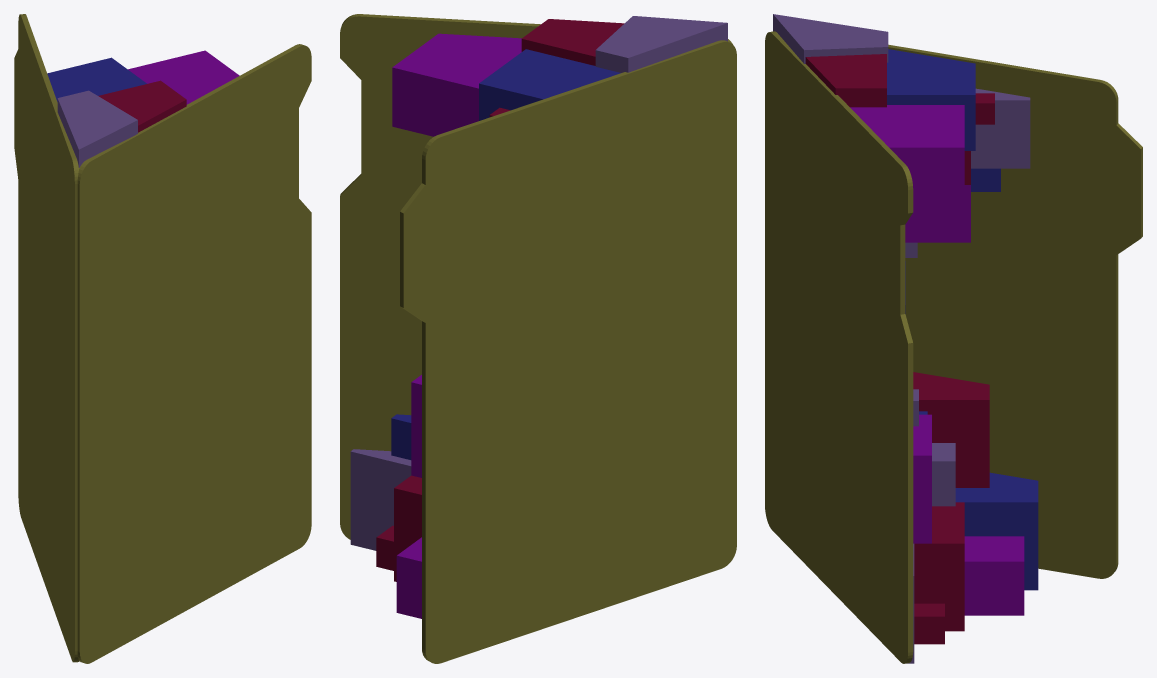
Rendered from Single_Tower 1.fbx.
3 renders of one model, left to right at view 1: azimuth 30°, elevation 25°; view 2: azimuth 150°, elevation 25°; view 3: azimuth 270°, elevation 25°, orthographic. The views are drawn at different scales.
Visible parts, largest first — view 1: Single_Tower_; view 2: Single_Tower_; view 3: Single_Tower_.
Part boxes in pixels (x1,y1,x2,y2): Single_Tower_: [14, 14, 311, 663]; Single_Tower_: [340, 14, 736, 663]; Single_Tower_: [765, 14, 1142, 663].
Bounding box in the file's own units: 2.88 × 4.61 × 3.1.
